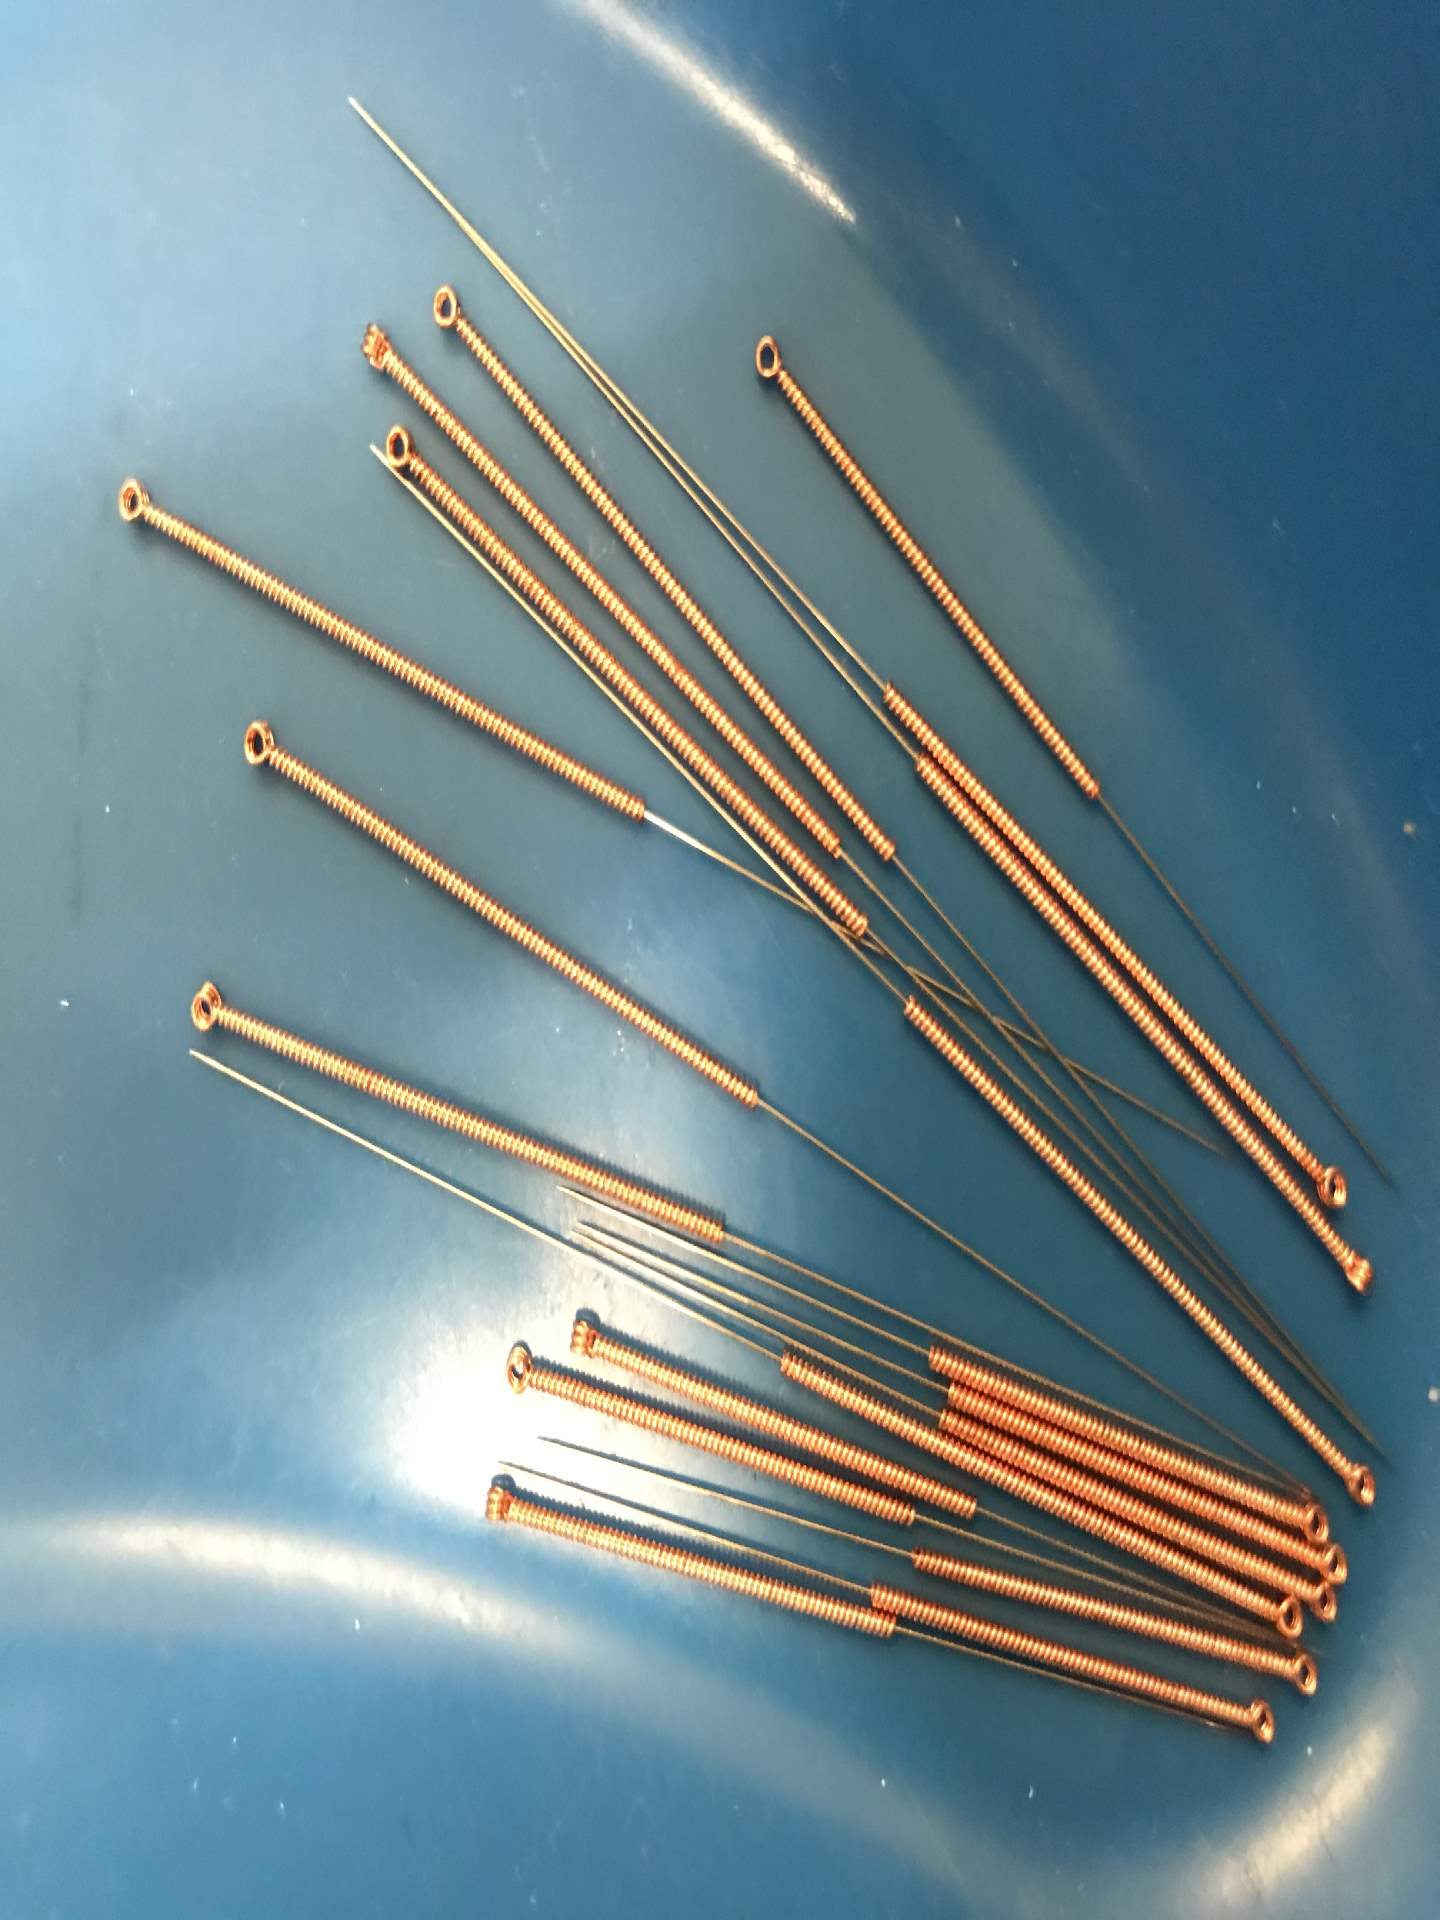needle: (172, 969, 234, 1049), (225, 706, 293, 779), (101, 461, 162, 543), (740, 321, 799, 399), (371, 416, 431, 485), (343, 310, 402, 379), (419, 274, 476, 343), (1327, 1231, 1383, 1300), (1333, 1445, 1387, 1516), (472, 1469, 529, 1536), (557, 1303, 613, 1370), (1230, 1692, 1289, 1754), (495, 1338, 552, 1401), (1305, 1147, 1358, 1215), (1274, 1646, 1333, 1702), (1290, 1491, 1336, 1548), (1268, 1592, 1308, 1642), (1302, 1578, 1343, 1627), (1308, 1544, 1352, 1586)
